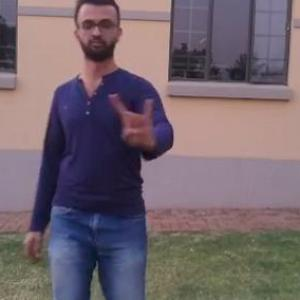takeoff-hand: (112, 90, 158, 147)
